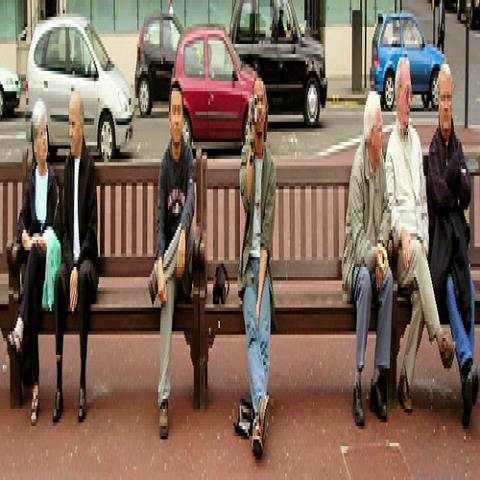car: (24, 15, 136, 160), (228, 0, 327, 129), (172, 26, 258, 145), (369, 9, 449, 116), (134, 16, 184, 115), (0, 59, 22, 120), (455, 0, 479, 34)
